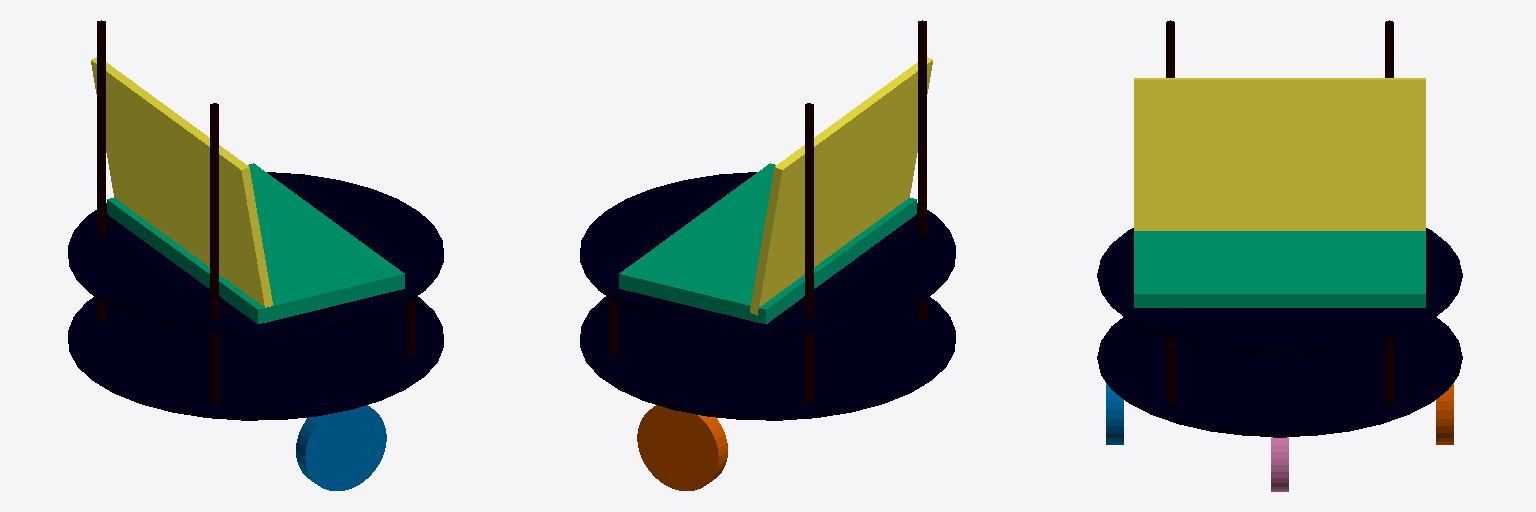
robot.urdf — patrick_the_robot:
<?xml version="1.0"?>
<!-- Author: [author] -->
<robot name="patrick_the_robot">
  <link name="base_link">
    <visual>
      <geometry>
        <cylinder length="0.005" radius="0.2"/>
      </geometry>
      <material name="black">
          <color rgba="0 0 0.118 1"/>
      </material>
    </visual>
  </link>

  <link name="base_laser">
    <visual>
      <geometry>
        <mesh filename="package://turtlebot_description/meshes/sensors/kinect.dae"/>
      </geometry>
    <origin rpy="0 0 1.5708"/>
    </visual>
  </link>  
  
  <link name="laptop_hor">
    <visual>
      <geometry>
        <box size="0.32 0.18 0.02"/>
      </geometry>
    <origin rpy="0 0 1.5708"/>
      <material name="white"/>
         <color rgba="1 1 1 1"/>
      <material/>        
    </visual>
  </link>
  
  <link name="laptop_ver">
    <visual>
      <geometry>
        <box size="0.32 0.18 0.01"/>
      </geometry>
    <origin rpy="1.4 0 1.5708"/>
        <material name="white_xxx"/>
          <color rgba="0 0 0 1"/>
        <material/>        
    </visual>
  </link>
  
  <link name="left_wheel">
    <visual>
      <geometry>
        <cylinder length="0.02" radius="0.05"/>
      </geometry>
    <origin rpy="0 1.5708 1.5708" xyz="0 0 0"/>
        <material name="blue_dark"/>
          <color rgba="0.3333 0.3333 0.498 1"/>
        <material/>        
    </visual>
  </link>
  
  <link name="right_wheel">
    <visual>
      <geometry>
        <cylinder length="0.02" radius="0.05"/>
      </geometry>
    <origin rpy="0 1.5708 1.5708" xyz="0 0 0"/>
        <material name="blue_dark"/>
          <color rgba="0.3333 0.3333 0.498 1"/>
        <material/>        
    </visual>
  </link>  
  
  <link name="small_wheel">
    <visual>
      <geometry>
        <cylinder length="0.02" radius="0.0375"/>
      </geometry>
    <origin rpy="0 1.5708 1.5708" xyz="0 0 0"/>
        <material name="blue_dark"/>
          <color rgba="0.3333 0.3333 0.498 1"/>
        <material/>        
    </visual>
  </link>
  
  <link name="pillar_small_wheel">
    <visual>
      <geometry>
        <cylinder length="0.0125" radius="0.03"/>
      </geometry>
      <material name="black_slightly">
        <color rgba="0.123 0 0 1"/>
      </material>
    </visual>
  </link>
  
  <link name="base_link_2">
    <visual>
      <geometry>
        <cylinder length="0.005" radius="0.2"/>
      </geometry>
      <material name="black">
          <color rgba="0 0 0.118 1"/>
      </material>
    </visual>
  </link>
  
  <link name="pillar_1">
    <visual>
      <geometry>
        <cylinder length="0.1" radius="0.005"/>
      </geometry>
      <material name="black_slightly">
        <color rgba="0.123 0 0 1"/>
      </material>
    </visual>
  </link>
  
  <link name="pillar_2">
    <visual>
      <geometry>
        <cylinder length="0.1" radius="0.005"/>
      </geometry>
      <material name="black_slightly">
        <color rgba="0.123 0 0 1"/>
      </material>
    </visual>
  </link>
  
  <link name="pillar_3">
    <visual>
      <geometry>
        <cylinder length="0.1" radius="0.005"/>
      </geometry>
      <material name="black_slightly">
        <color rgba="0.123 0 0 1"/>
      </material>
    </visual>
  </link>
  
  <link name="pillar_4">
    <visual>
      <geometry>
        <cylinder length="0.1" radius="0.005"/>
      </geometry>
      <material name="black_slightly">
        <color rgba="0.123 0 0 1"/>
      </material>
    </visual>
  </link>
  
  <link name="pillar_kinect_1">
    <visual>
      <geometry>
        <cylinder length="0.25" radius="0.005"/>
      </geometry>
      <material name="black_slightly">
        <color rgba="0.123 0 0 1"/>
      </material>
    </visual>
  </link>
  
  <link name="pillar_kinect_2">
    <visual>
      <geometry>
        <cylinder length="0.25" radius="0.005"/>
      </geometry>
      <material name="black_slightly">
        <color rgba="0.123 0 0 1"/>
      </material>
    </visual>
  </link>

  <joint name="base_to_left_wheel" type="fixed">
    <parent link="base_link"/>
    <child link="left_wheel"/>
    <origin xyz="0 -0.181 -0.05"/>
  </joint>
  
  <joint name="base_to_right_wheel" type="fixed">
    <parent link="base_link"/>
    <child link="right_wheel"/>
    <origin xyz="0 0.181 -0.05"/>
  </joint>
  
  <joint name="base_to_small_wheel" type="fixed">
    <parent link="base_link"/>
    <child link="small_wheel"/>
    <origin xyz="0.15 0 -0.05"/>
  </joint>
  
  <joint name="base_to_small_wheel_and_pillar_small_wheel" type="fixed">
    <parent link="base_link"/>
    <child link="pillar_small_wheel"/>
    <origin xyz="0.15 0 -0.00625"/>
  </joint>
  
  <joint name="base_to_laser" type="fixed">
    <parent link="base_link"/>
    <child link="base_laser"/>
    <origin xyz="-0.12 0 0.35"/>
  </joint>
  
  <joint name="base_to_laptop_hor" type="fixed">
    <parent link="base_link"/>
    <child link="laptop_hor"/>
    <origin xyz="0 0 0.11"/>
  </joint>
  
  <joint name="base_to_laptop_ver" type="fixed">
    <parent link="base_link"/>
    <child link="laptop_ver"/>
    <origin xyz="-0.09 0 0.2"/>
  </joint>
  
  <joint name="base_to_base" type="fixed">
    <parent link="base_link"/>
    <child link="base_link_2"/>
    <origin xyz="0 0 0.1"/>
  </joint>
  
  <joint name="base_to_pillar_1" type="fixed">
    <parent link="base_link"/>
    <child link="pillar_1"/>
    <origin xyz="0.12 0.12 0.05"/>
  </joint>
  
  <joint name="base_to_pillar_2" type="fixed">
    <parent link="base_link"/>
    <child link="pillar_2"/>
    <origin xyz="-0.12 0.12 0.05"/>
  </joint>
  
  <joint name="base_to_pillar_3" type="fixed">
    <parent link="base_link"/>
    <child link="pillar_3"/>
    <origin xyz="0.12 -0.12 0.05"/>
  </joint>
  
  <joint name="base_to_pillar_4" type="fixed">
    <parent link="base_link"/>
    <child link="pillar_4"/>
    <origin xyz="-0.12 -0.12 0.05"/>
  </joint>
  
  <joint name="base_to_pillar_kinect_1" type="fixed">
    <parent link="base_link"/>
    <child link="pillar_kinect_1"/>
    <origin xyz="-0.12 0.12 0.225"/>
  </joint>
  
  <joint name="base_to_pillar_kinect_2" type="fixed">
    <parent link="base_link"/>
    <child link="pillar_kinect_2"/>
    <origin xyz="-0.12 -0.12 0.225"/>
  </joint>

</robot>

--- Facts derived from the render (not from the file) ---
3 views of the same robot in one strip: view 1: azimuth 30°, elevation 25°; view 2: azimuth 150°, elevation 25°; view 3: azimuth 270°, elevation 25° (orthographic).
Robot: patrick_the_robot — 15 links, 14 joints (14 fixed); root link base_link; default pose: every joint at zero.
Visible links, largest first — view 1: base_link, base_link_2, laptop_ver, laptop_hor, left_wheel, pillar_kinect_2, pillar_kinect_1, pillar_4; view 2: base_link, base_link_2, laptop_ver, laptop_hor, right_wheel, pillar_kinect_1, pillar_kinect_2, pillar_2; view 3: laptop_ver, base_link, laptop_hor, base_link_2, small_wheel, left_wheel, right_wheel, pillar_1, pillar_3.
Boxes of the visible links, x1,y1,x2,y2 form: base_link: (68, 296, 443, 420); base_link_2: (68, 172, 443, 334); laptop_ver: (91, 57, 272, 307); laptop_hor: (107, 163, 404, 323); left_wheel: (296, 405, 386, 490); pillar_kinect_2: (210, 103, 218, 318); pillar_kinect_1: (97, 20, 105, 235); pillar_4: (210, 333, 218, 403); base_link: (580, 296, 955, 420); base_link_2: (580, 172, 955, 334); laptop_ver: (750, 57, 932, 315); laptop_hor: (619, 163, 916, 323); right_wheel: (637, 405, 727, 490); pillar_kinect_1: (805, 103, 813, 318); pillar_kinect_2: (918, 20, 926, 235); pillar_2: (805, 333, 813, 403); laptop_ver: (1134, 78, 1425, 230); base_link: (1097, 317, 1462, 436); laptop_hor: (1134, 231, 1425, 307); base_link_2: (1097, 228, 1462, 354); small_wheel: (1271, 437, 1288, 491); left_wheel: (1106, 383, 1123, 444); right_wheel: (1436, 383, 1453, 444); pillar_1: (1385, 337, 1393, 403); pillar_3: (1166, 337, 1174, 403).
Size in the robot's own frame: 0.4 by 0.4 by 0.45 metres.
0 mesh visuals loaded from 1 distinct referenced files (none loaded); not drawn: 1 (reference not matched to a file when rendering).
